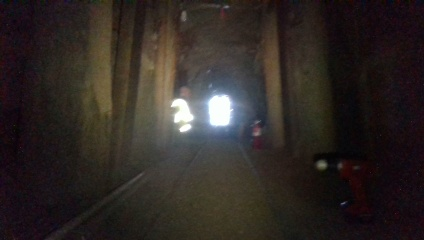drill: (311, 151, 390, 223)
fire_extinguisher: (250, 112, 266, 148)
manikin: (168, 86, 204, 139)
